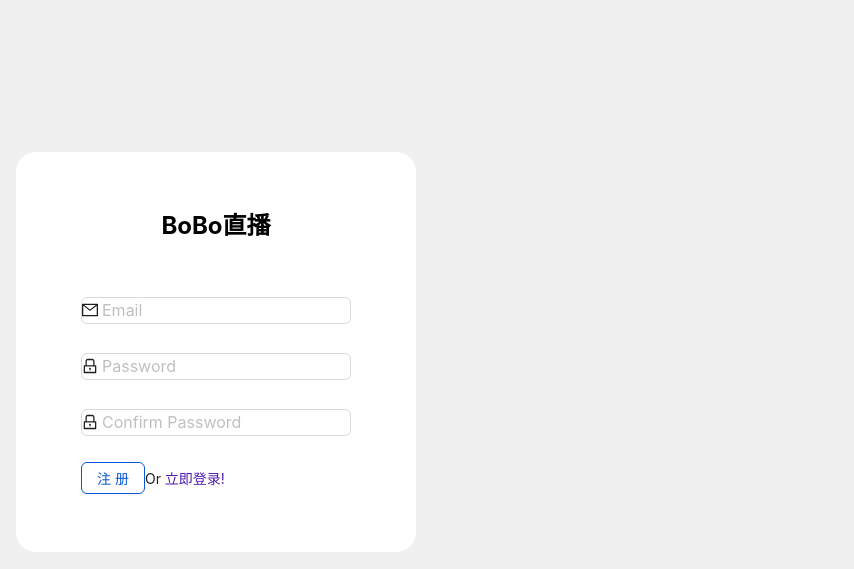
用户登录注册流程 › 注册重复
This screenshot has width=854, height=569.
In the field with placeholder "Email": (226, 311) [102, 298, 350, 323], type "test@test.com"
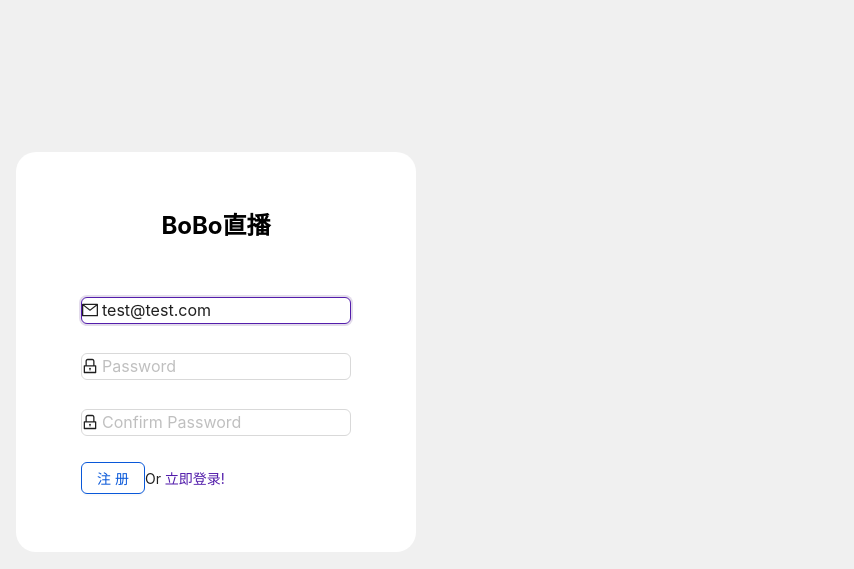
In the password field with placeholder "Password": (226, 367) [102, 354, 350, 379], type "1"
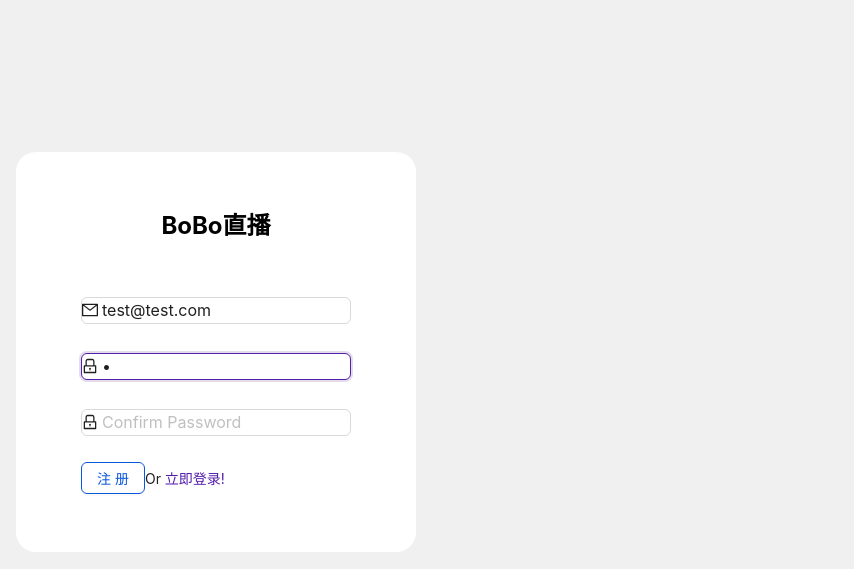
In the password field with placeholder "Confirm Password": (226, 423) [102, 410, 350, 435], type "1"
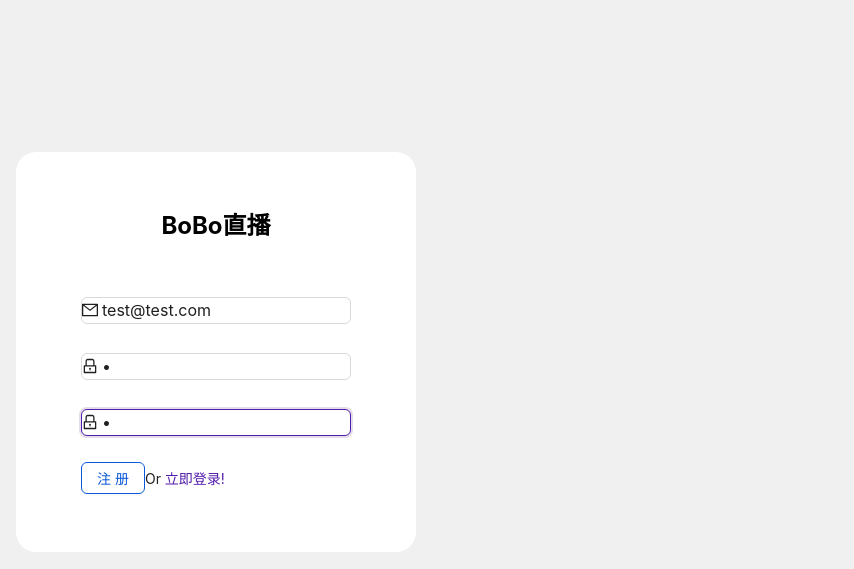
Click the button "注 册": (113, 478) [81, 462, 145, 494]
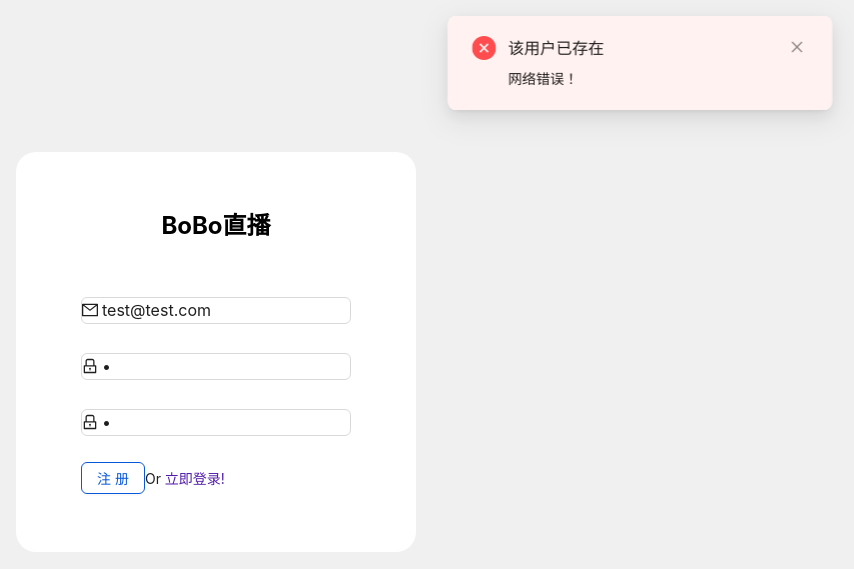
Now the text "该用户已存在" is shown, box [508, 38, 604, 58]
